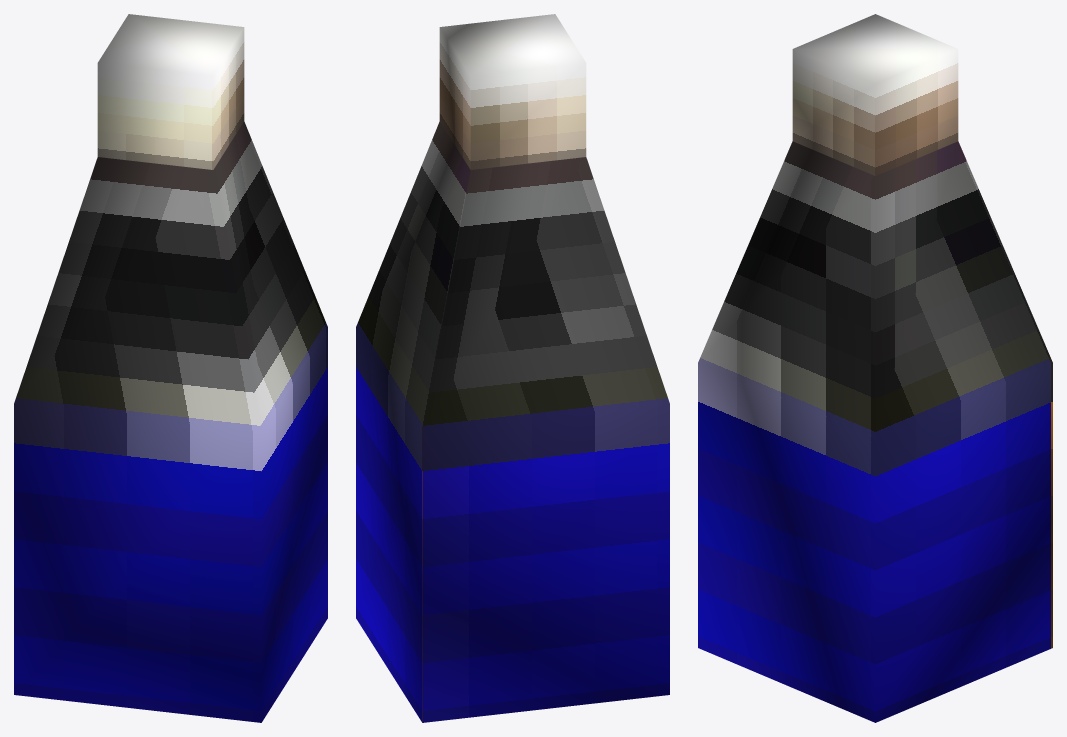
The model's file is mp_potion_small.gltf.
3 views of the same model, side by side, from view 1: azimuth 30°, elevation 25°; view 2: azimuth 150°, elevation 25°; view 3: azimuth 270°, elevation 25° (orthographic). The views are drawn at different scales.
Parts seen in each view (by area): view 1: medicine1.jpg, medicine2.jpg; view 2: medicine1.jpg, medicine2.jpg; view 3: medicine1.jpg, medicine2.jpg.
Boxes of the visible parts, box(x1,y1,x2,y2) form: medicine1.jpg: box(14, 121, 327, 722); medicine2.jpg: box(97, 14, 244, 169); medicine1.jpg: box(356, 121, 669, 722); medicine2.jpg: box(439, 14, 586, 169); medicine1.jpg: box(698, 141, 1052, 722); medicine2.jpg: box(792, 14, 958, 175).
Size of the model in its own units: 0.1466 by 0.2731 by 0.1466.
2 materials, 2 textured.
